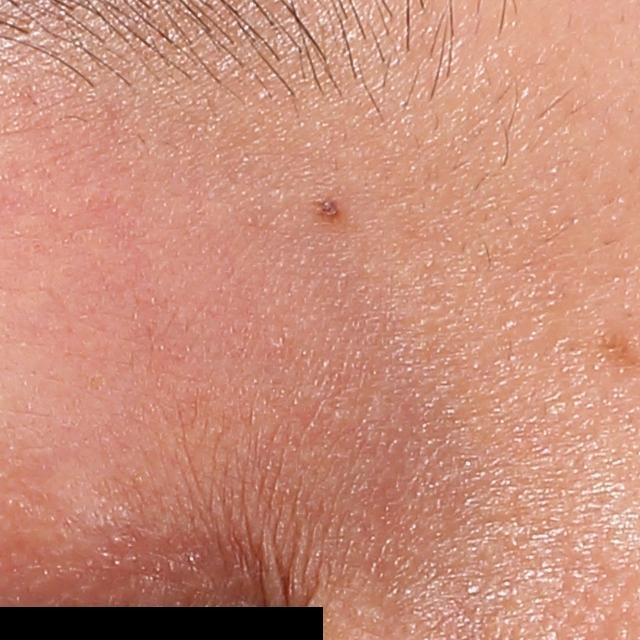nevus: (318, 199, 346, 221)
